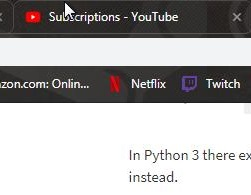cursor: (63, 2, 76, 21)
